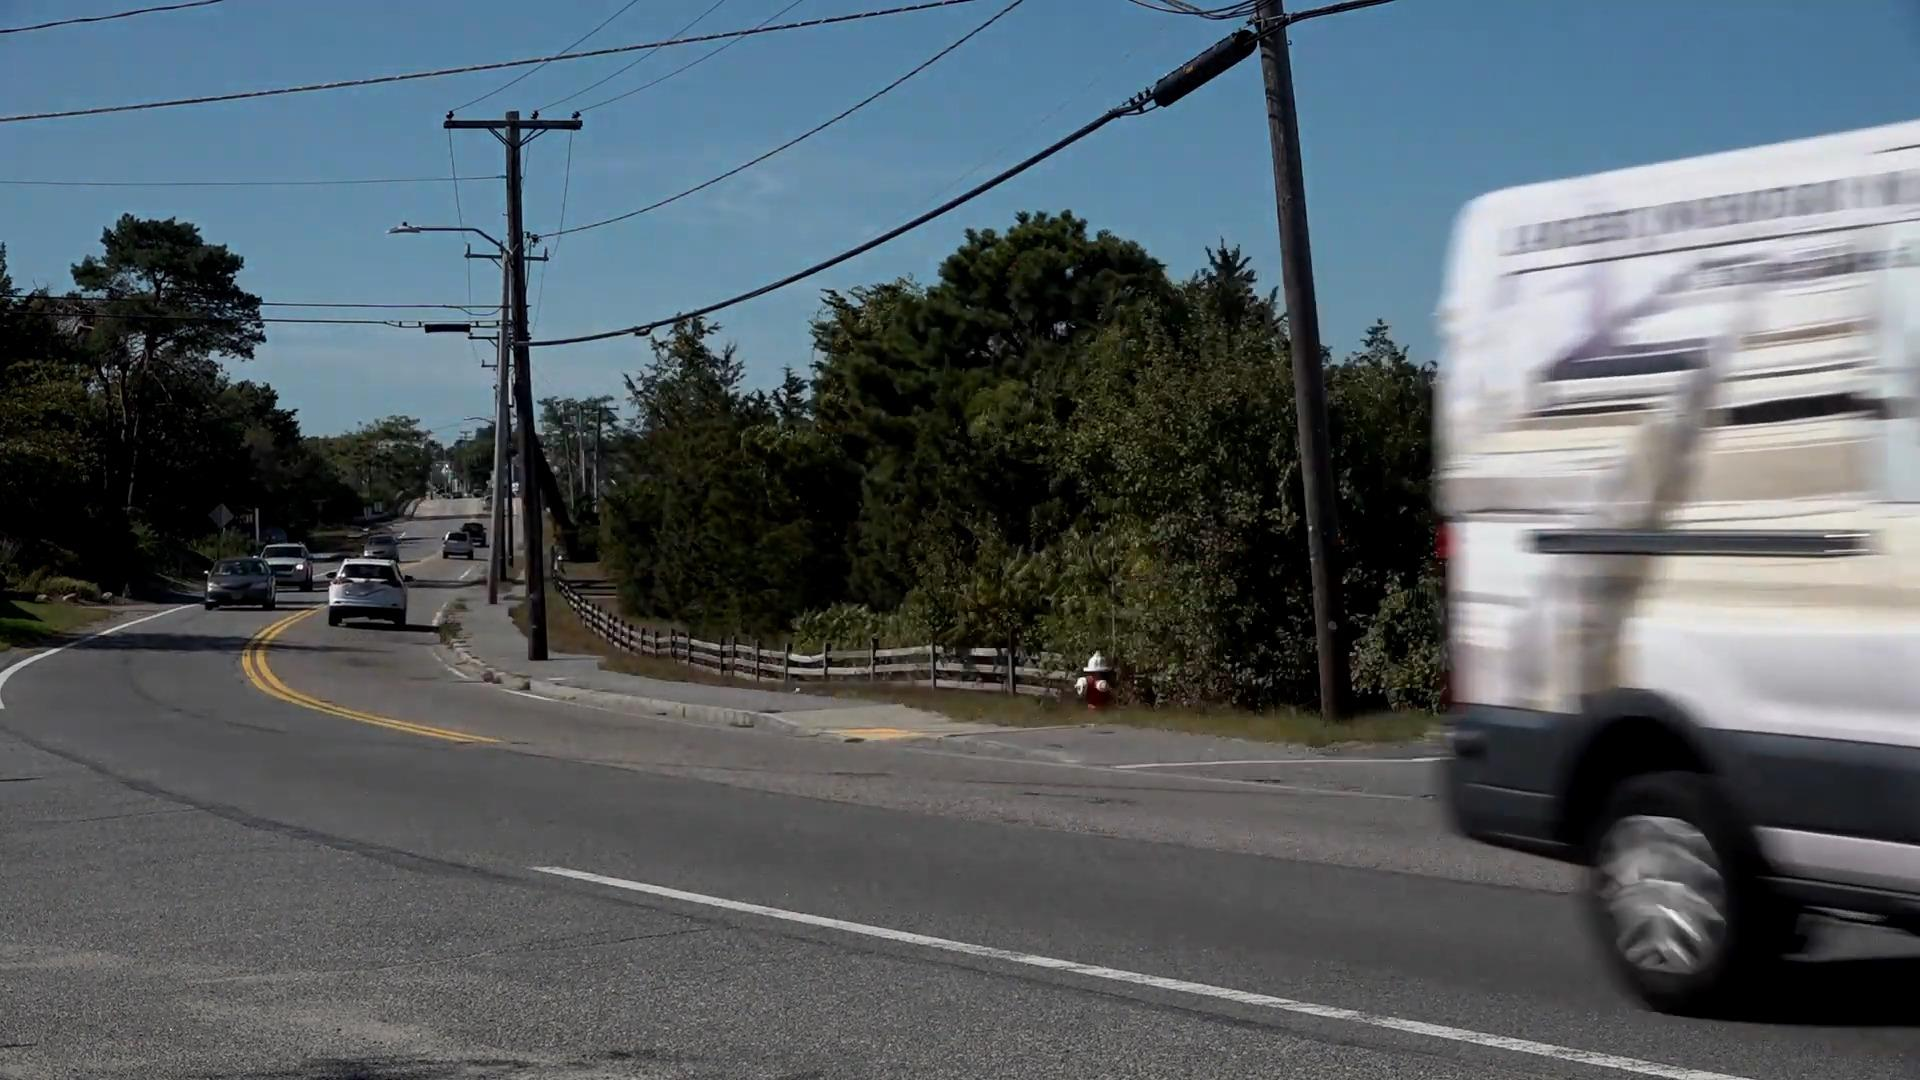minivan: (1441, 121, 1920, 1015)
sedans: (203, 555, 274, 612)
suv: (328, 560, 407, 630)
